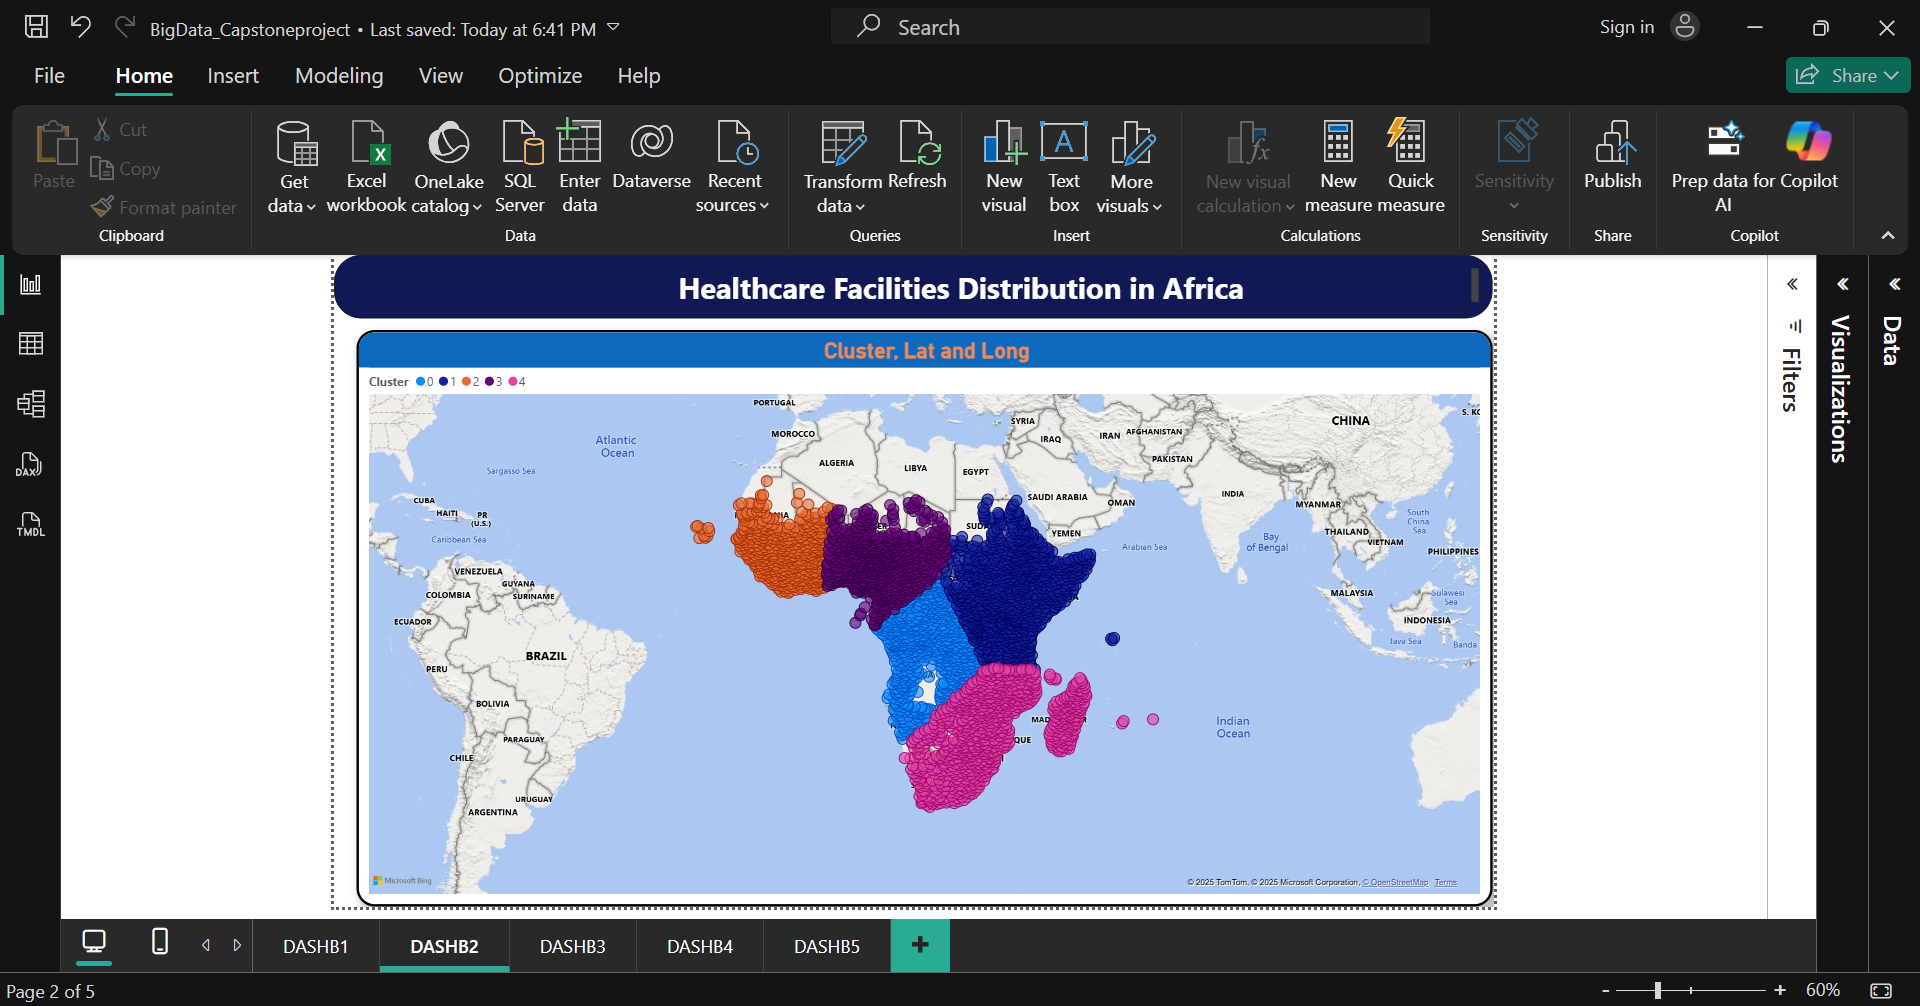

This screenshot's page, from the dashboard's own definition file:
{"tool":"powerbi","page":{"name":"DASHB2","canvas":[1280,720],"ordinal":1},"visuals":[{"type":"textbox","box":[10,0,280,280],"z":0},{"type":"textbox","box":[0,0,1279.4,69.9],"z":1000},{"type":"textbox","box":[10,290,280,280],"z":2000},{"type":"map","fields":{"Y":["cfa_clustered.Lat"],"X":["cfa_clustered.Long"],"Series":["cfa_clustered.Cluster"]},"box":[24.7,83.6,1254.7,636.8],"z":3000}]}

Visuals, with their boxes on the page's 1280x720 design canvas (x1, y1, x2, y2). These are canvas units, not pixel positions in the 1920x1006 screenshot, which may show the page scaled, cropped or inside an application window:
textbox: bbox(10, 0, 290, 280)
textbox: bbox(0, 0, 1279, 70)
textbox: bbox(10, 290, 290, 570)
map - cfa_clustered.Lat x cfa_clustered.Long: bbox(25, 84, 1279, 720)
